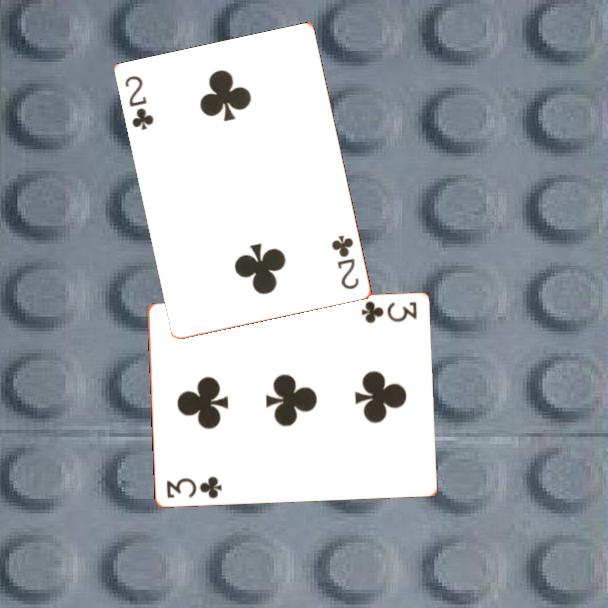c02: (122, 72, 157, 133), (328, 232, 362, 293)
c03: (358, 297, 420, 326), (163, 473, 225, 501)
